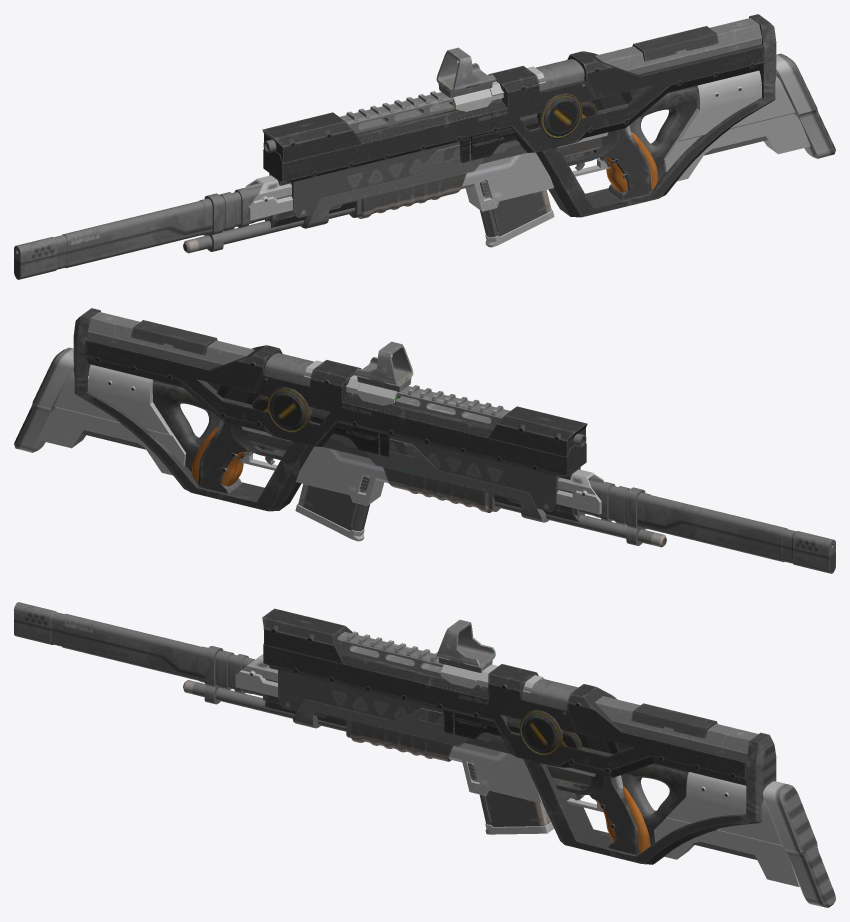
The model's file is guns.glb.
3 renders of one model, top to bottom at view 1: azimuth 30°, elevation 25°; view 2: azimuth 150°, elevation 25°; view 3: azimuth 330°, elevation 25°, orthographic.
Parts seen in each view (by area): view 1: Gun_Rifle, Gun_Sniper, Gun_Pistol; view 2: Gun_Rifle, Gun_Sniper, Gun_Pistol; view 3: Gun_Rifle, Gun_Sniper, Gun_Pistol.
Boxes of the visible parts, x1,y1,x2,y2 form: Gun_Rifle: (262, 14, 776, 227); Gun_Sniper: (14, 53, 835, 279); Gun_Pistol: (460, 91, 658, 199); Gun_Rifle: (73, 308, 587, 521); Gun_Sniper: (14, 347, 835, 573); Gun_Pistol: (191, 385, 389, 493); Gun_Rifle: (262, 608, 776, 864); Gun_Sniper: (14, 602, 835, 907); Gun_Pistol: (443, 708, 650, 855).
Bounding box in the file's own units: 1.72 × 0.4017 × 0.087.
3 materials, 3 textured.
